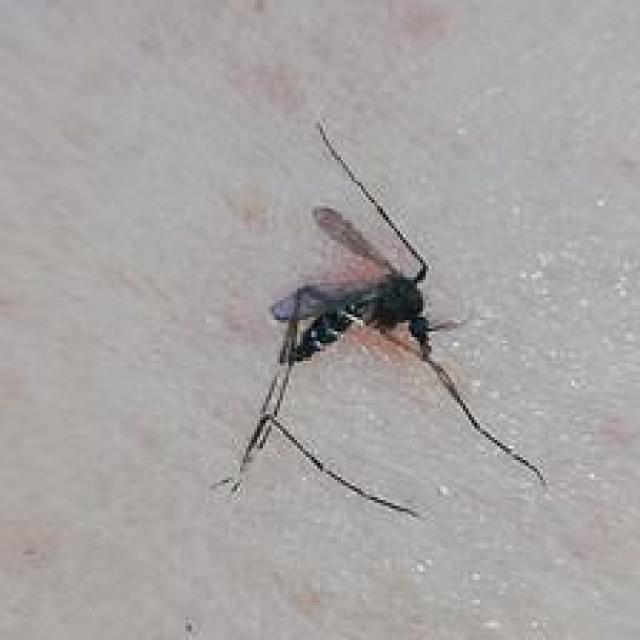Aedes albopictus: (212, 119, 548, 518)
